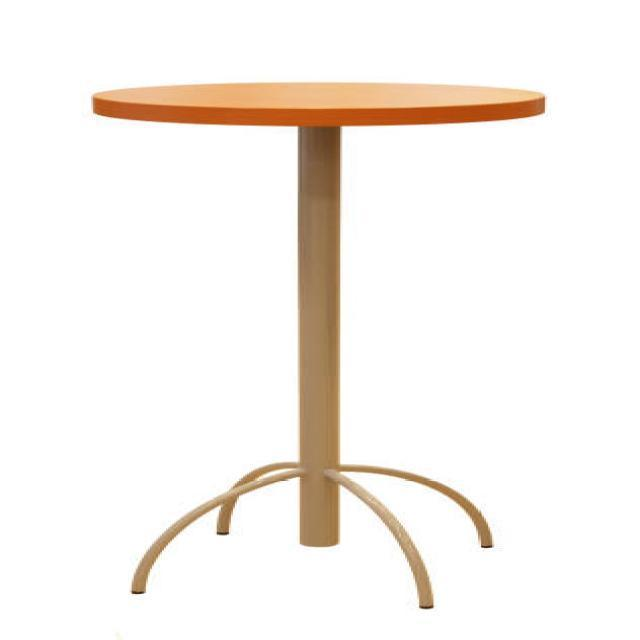table: (89, 80, 545, 608)
